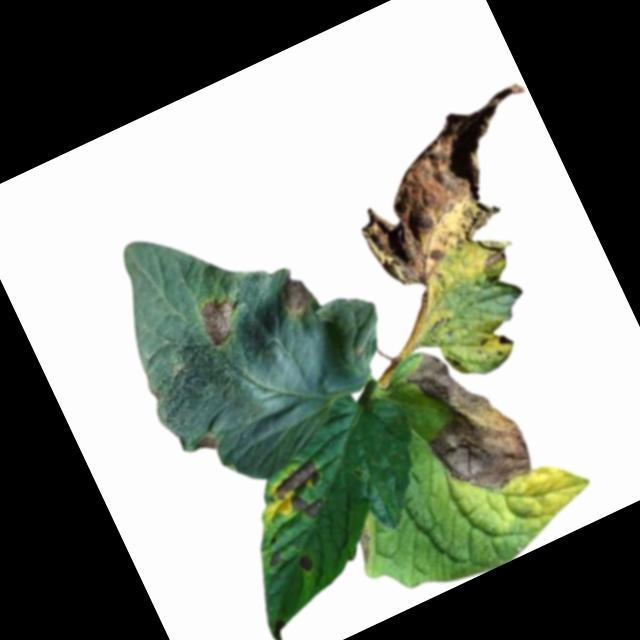Early_blight: (329, 76, 586, 307), (391, 329, 540, 510), (266, 455, 337, 529), (192, 291, 247, 350), (272, 273, 318, 321), (349, 524, 378, 564), (190, 427, 224, 458), (293, 550, 317, 574), (267, 617, 291, 640), (492, 325, 515, 349), (263, 546, 285, 568)
